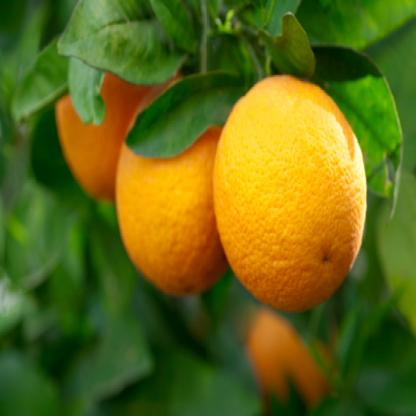orange: (208, 83, 373, 311), (100, 71, 256, 311), (58, 1, 196, 209)
